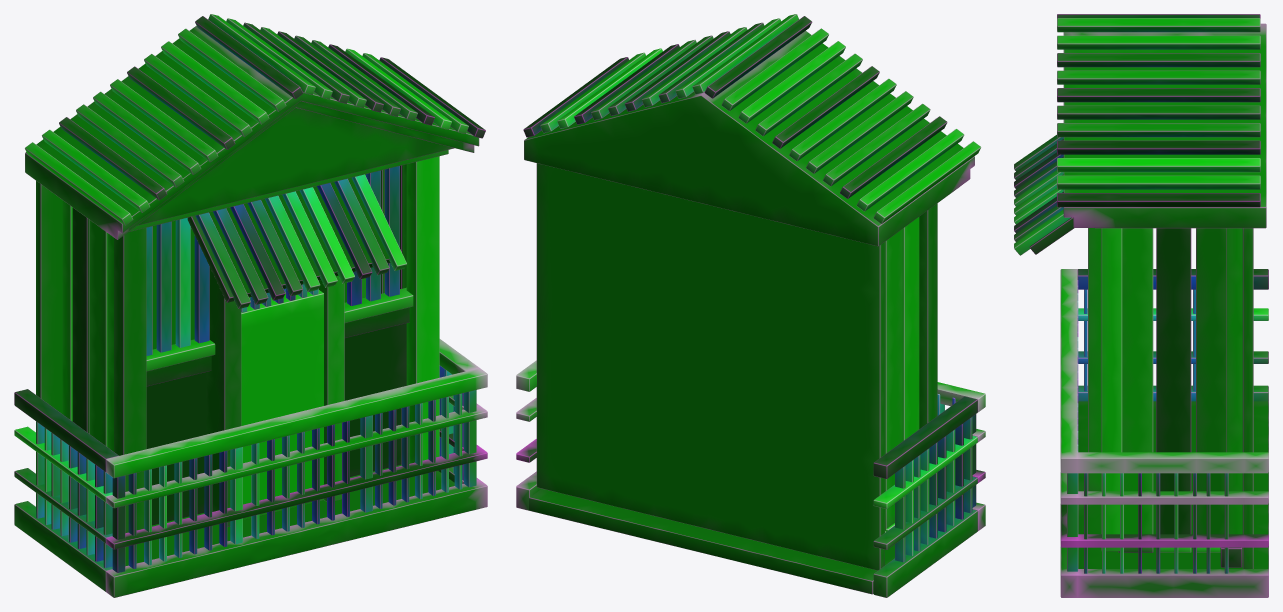
The model's file is door_400x300_06.fbx.
The picture shows the model from 3 angles, left to right: view 1: azimuth 30°, elevation 25°; view 2: azimuth 150°, elevation 25°; view 3: azimuth 270°, elevation 25°; orthographic projection. The views are drawn at different scales.
Visible parts, largest first — view 1: door_400x300_06; view 2: door_400x300_06; view 3: door_400x300_06.
Boxes of the visible parts, left/top/right/bottom form: door_400x300_06: left=14, top=14, right=487, bottom=597; door_400x300_06: left=516, top=14, right=985, bottom=597; door_400x300_06: left=1014, top=14, right=1268, bottom=597.
Bounding box in the file's own units: 2.38 × 2.84 × 1.34.
